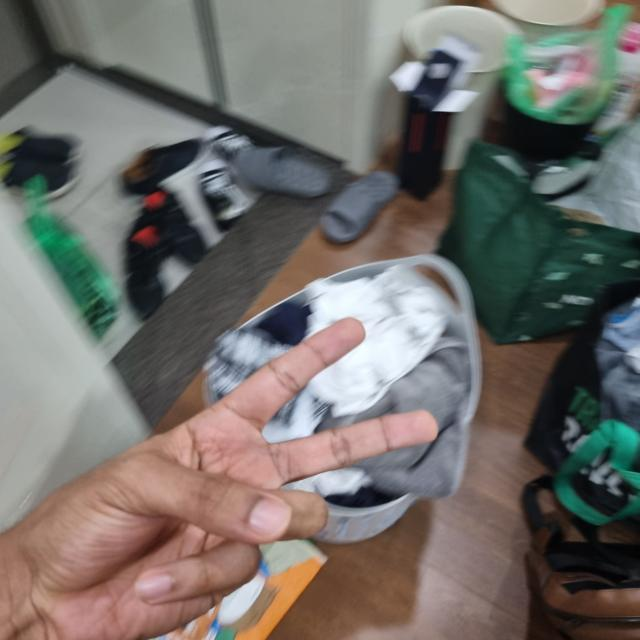Scissors: (0, 328, 429, 639)
